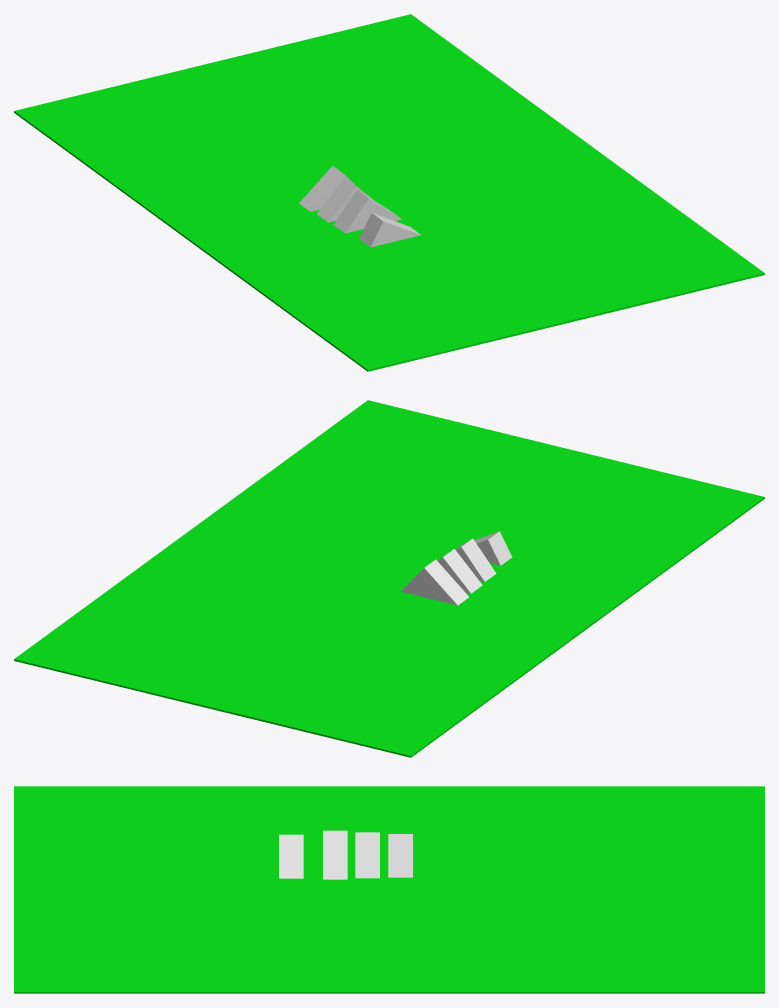
Rendered from World.glb.
3 views of the same model, one above another, from view 1: azimuth 30°, elevation 25°; view 2: azimuth 150°, elevation 25°; view 3: azimuth 270°, elevation 25° (orthographic). The views are drawn at different scales.
Parts seen in each view (by area): view 1: Cube.001, Cube.002, Cube.003, Cube.004, Cube; view 2: Cube.001, Cube.004, Cube, Cube.002, Cube.003; view 3: Cube.001, Cube.002, Cube, Cube.003, Cube.004.
Part boxes in pixels (x1,y1,x2,y2): Cube.001: (14,14,764,371); Cube.002: (334,190,401,233); Cube.003: (359,213,420,247); Cube.004: (299,165,354,211); Cube: (317,178,374,222); Cube.001: (14,400,764,757); Cube.004: (401,559,468,605); Cube: (437,549,482,593); Cube.002: (438,538,496,581); Cube.003: (458,531,512,565); Cube.001: (14,786,764,993); Cube.002: (323,830,347,879); Cube: (355,832,379,878); Cube.003: (279,834,303,878); Cube.004: (388,834,412,877).
Size of the model in its own units: 77.95 by 14.81 by 120.
